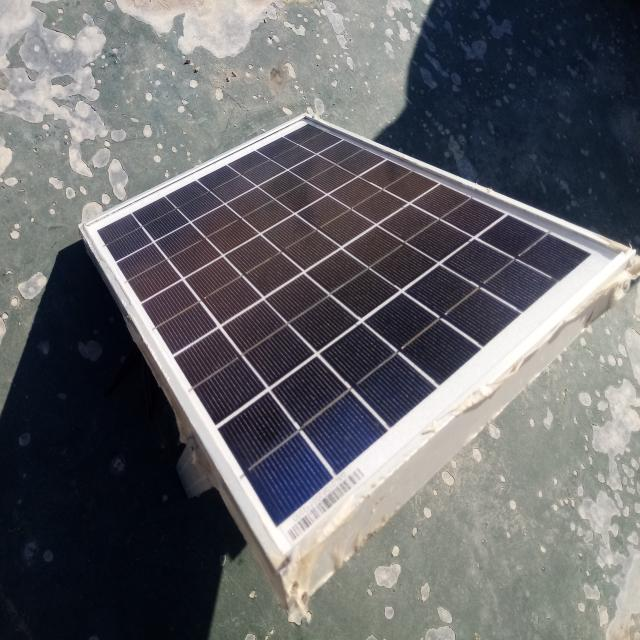Normal Solar Panel: (78, 111, 629, 566)
